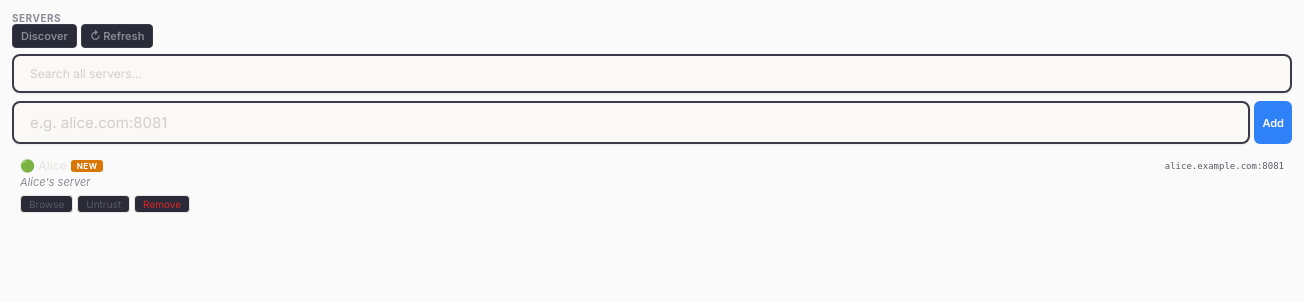
Test: ServerDirectoryPanel › shows remote error on non-ok response
What coordinates should you click on to do the following:
click the button "Browse"
I would click on:
 (47, 204)
Its box is [20,195,73,213].
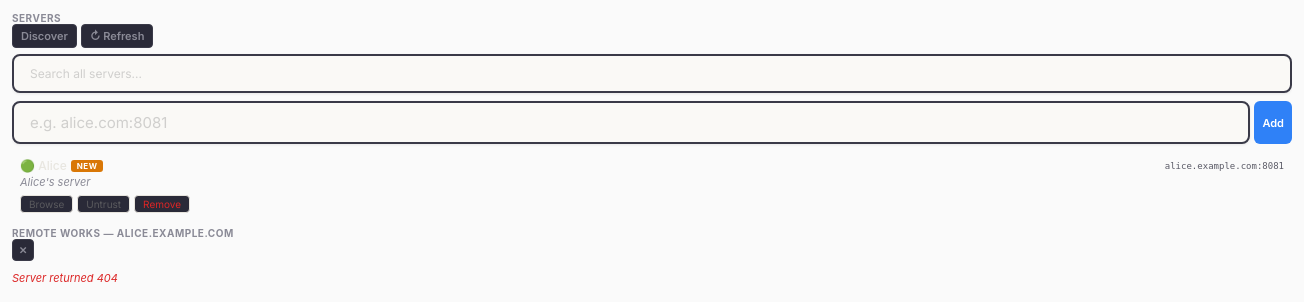
expect the text "Server returned 404" is shown: met, box [12,271,118,285]
